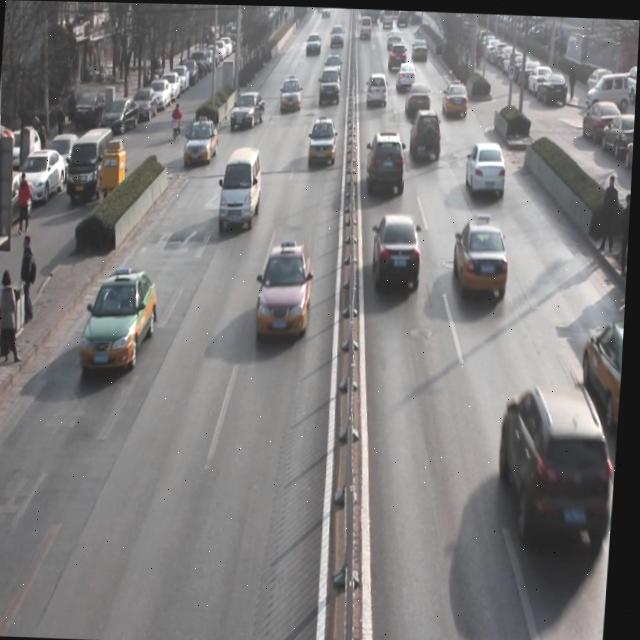car: (499, 378, 618, 550), (86, 273, 163, 373), (451, 210, 515, 300), (261, 242, 317, 341), (581, 316, 628, 432), (372, 212, 427, 296), (367, 128, 409, 192), (465, 139, 510, 197), (409, 103, 445, 163), (183, 117, 220, 165), (307, 115, 339, 165), (232, 90, 266, 129), (315, 66, 342, 105), (405, 79, 432, 117), (442, 77, 470, 112), (279, 74, 303, 111), (367, 68, 388, 103), (396, 58, 417, 91), (324, 50, 344, 78)
truck: (218, 142, 267, 231)
